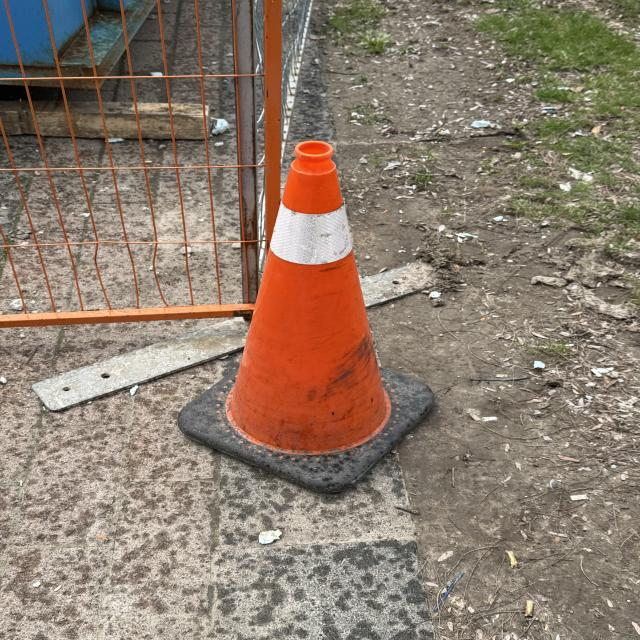Traffic Cone: (178, 140, 435, 493)
